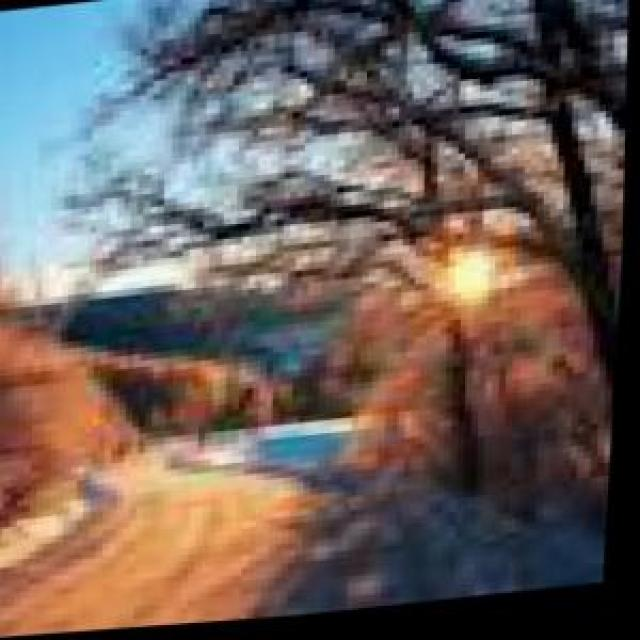clear-road: (2, 451, 296, 634)
